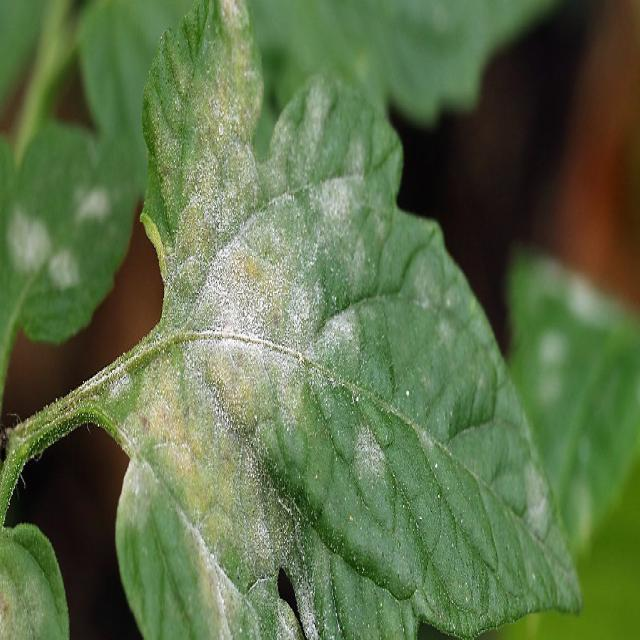Powdery Mildew: (1, 1, 583, 636)
